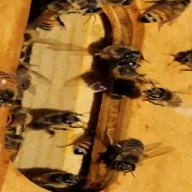Bee: (88, 37, 148, 77), (22, 0, 80, 34), (112, 139, 157, 175), (131, 0, 192, 26), (60, 127, 112, 156)
